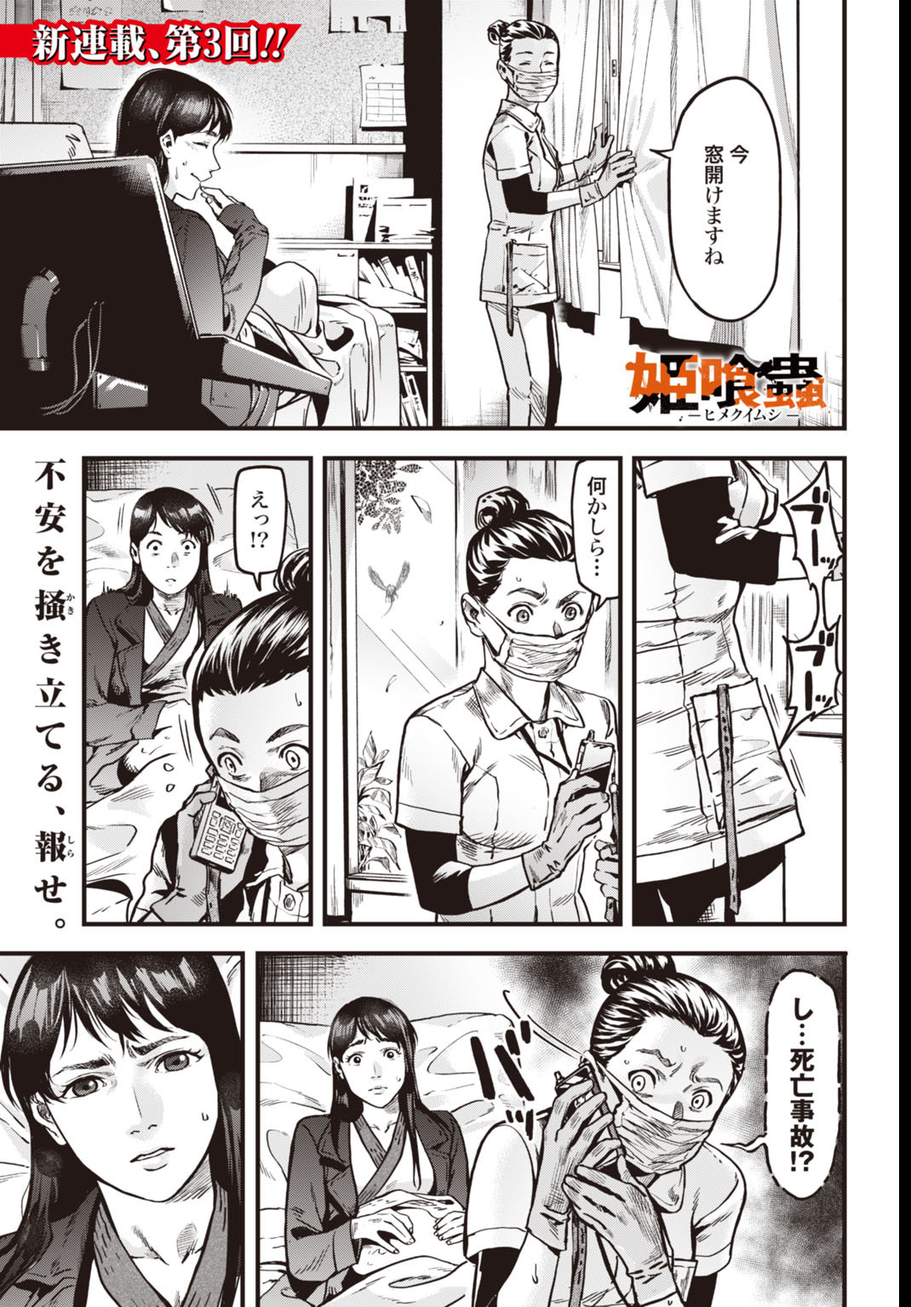bubbles: (646, 75, 784, 326), (716, 962, 843, 1206), (563, 458, 623, 611), (227, 461, 294, 594)
